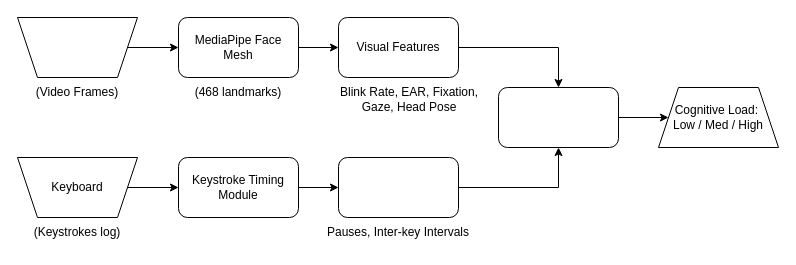
The diagram is 796 pixels wide and 265 high, and some of its shapes have lost their labels. The centre of each missing label's shape, as x and y in pixels:
"Interaction Features" goes at (398,187).
"Rule-Based Fusion Logic" goes at (558,117).
"Webcam" goes at (77,47).
